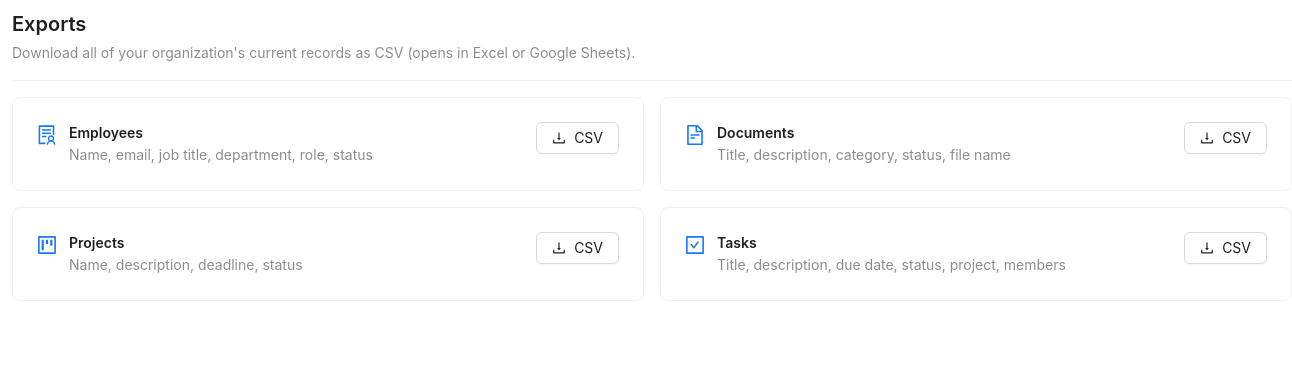
Scenario: ExportsPage › explains a permission error
Click the button with aria-label "Download Employees CSV" at (578, 138), box [536,122,619,154]
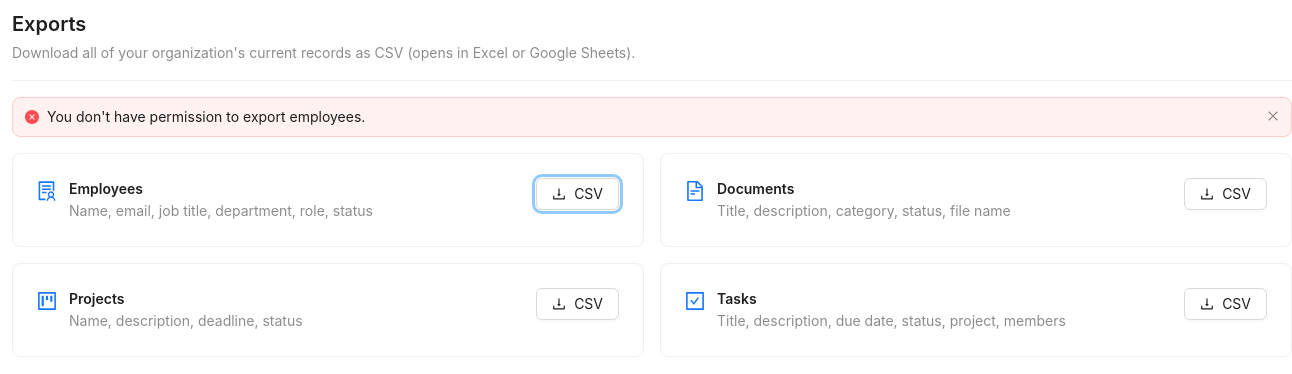
Check: the text "You don't have permission to export employees." is shown, box [47,108,365,125]
